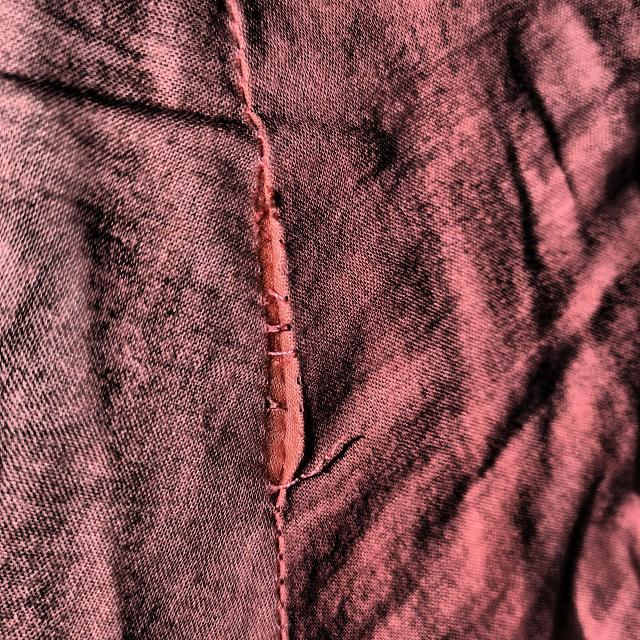seam: (211, 127, 373, 512)
